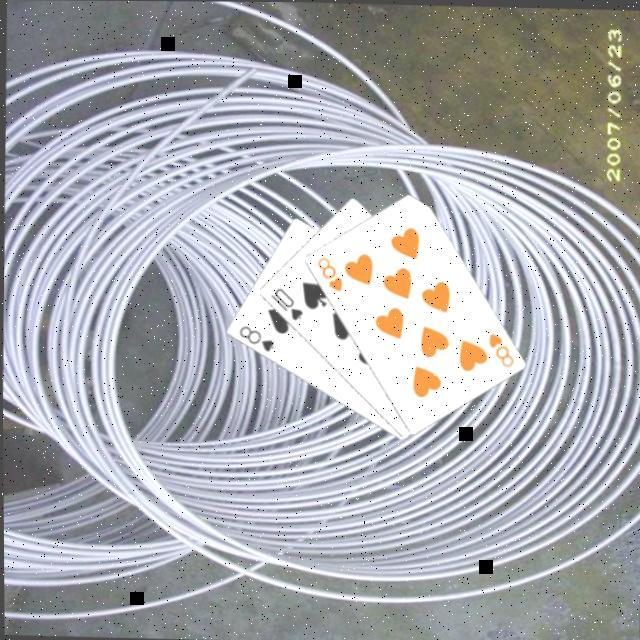10S: (263, 284, 304, 326)
8H: (310, 254, 343, 296), (482, 331, 514, 372)
8S: (232, 324, 274, 356)
